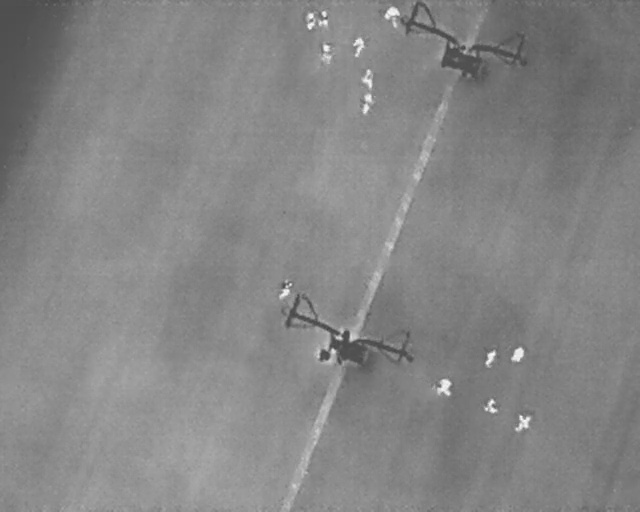Person: (511, 410, 533, 435), (433, 375, 454, 399), (481, 394, 502, 417), (508, 343, 528, 367), (276, 276, 294, 302), (358, 92, 376, 117), (383, 6, 401, 28), (482, 346, 499, 368), (360, 68, 374, 88), (320, 42, 332, 64), (351, 37, 364, 57), (304, 12, 316, 31), (317, 10, 328, 27)
